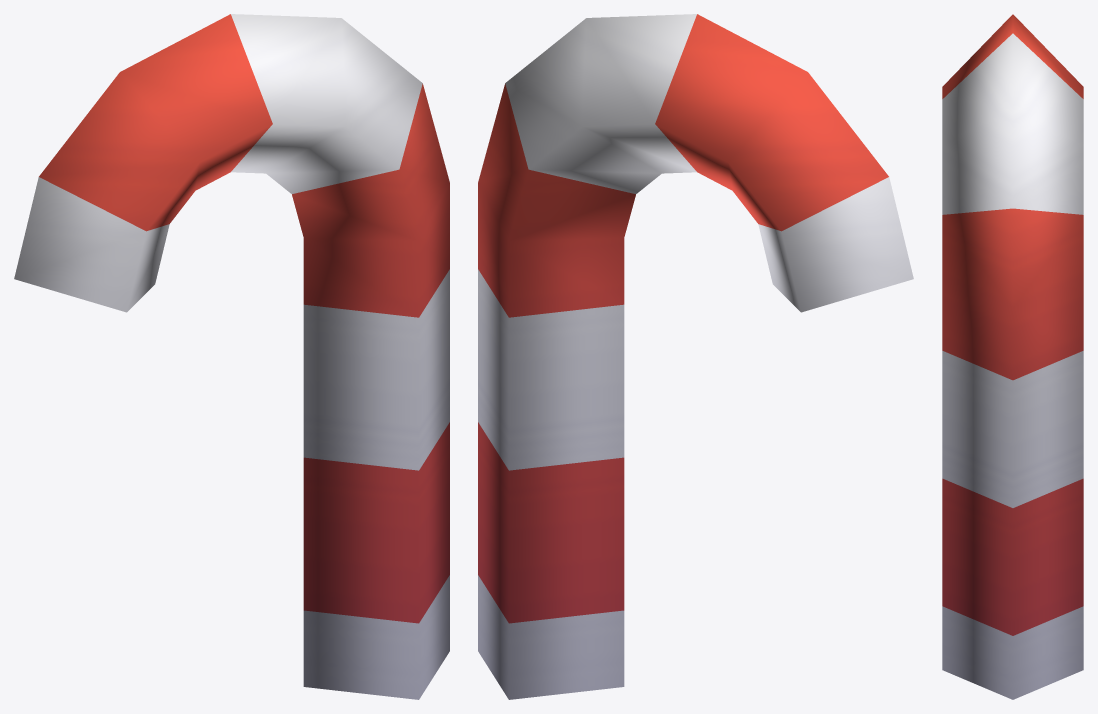
Rendered from candy-cane-red.obj.
3 views of the same model, side by side, from view 1: azimuth 30°, elevation 25°; view 2: azimuth 150°, elevation 25°; view 3: azimuth 270°, elevation 25° (orthographic). The views are drawn at different scales.
Visible parts, largest first — view 1: candy-cane-red; view 2: candy-cane-red; view 3: candy-cane-red.
Part boxes in pixels (x1=…): candy-cane-red: x1=14, y1=14, x2=449, y2=699; candy-cane-red: x1=478, y1=14, x2=913, y2=699; candy-cane-red: x1=942, y1=14, x2=1083, y2=699.
Size of the model in its own units: 0.2983 by 0.4518 by 0.1.
Materials: 1 (1 with a texture image).
